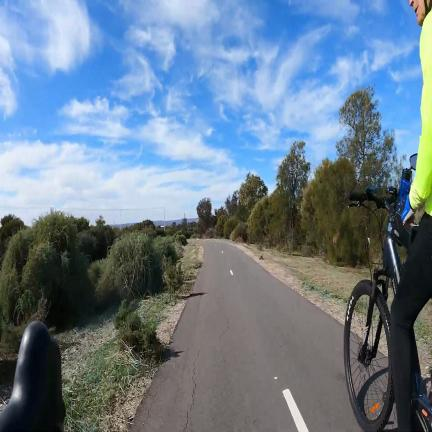Bike_Lane: (132, 239, 360, 432)
